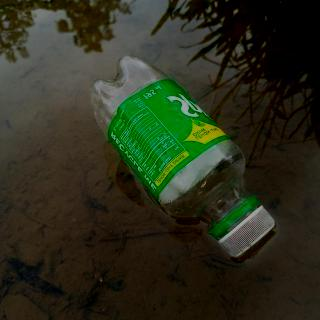bottle: (87, 51, 280, 264)
